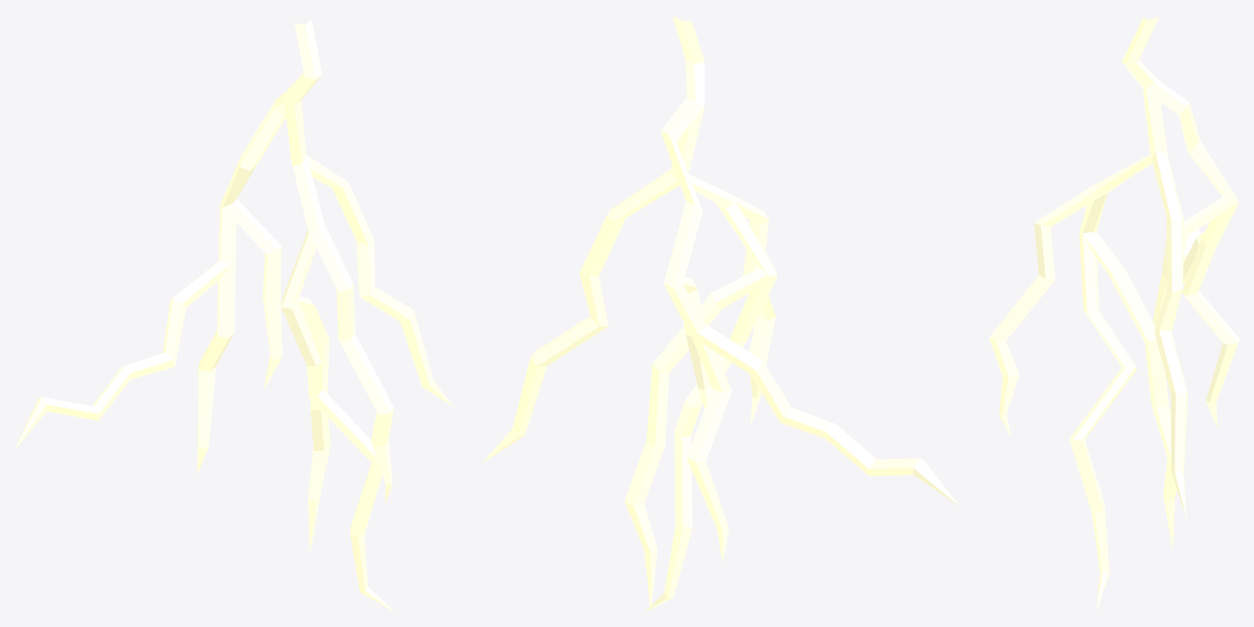
The picture shows the model from 3 angles, left to right: view 1: azimuth 30°, elevation 25°; view 2: azimuth 150°, elevation 25°; view 3: azimuth 270°, elevation 25°; orthographic projection. The views are drawn at different scales.
Parts seen in each view (by area): view 1: lightning_bolt.002, lightning_bolt.006, lightning_bolt.003, lightning_bolt.005, lightning_bolt, lightning_bolt.004, lightning_bolt.007; view 2: lightning_bolt.002, lightning_bolt.006, lightning_bolt.004, lightning_bolt, lightning_bolt.005, lightning_bolt.003, lightning_bolt.007; view 3: lightning_bolt.002, lightning_bolt.006, lightning_bolt.005, lightning_bolt.004, lightning_bolt.003, lightning_bolt.007, lightning_bolt.
Boxes of the visible parts, left/top/right/bottom form: lightning_bolt.002: left=284, top=20, right=451, bottom=405; lightning_bolt.006: left=197, top=93, right=285, bottom=473; lightning_bolt.003: left=292, top=155, right=393, bottom=503; lightning_bolt.005: left=281, top=301, right=395, bottom=612; lightning_bolt: left=14, top=260, right=230, bottom=449; lightning_bolt.004: left=281, top=230, right=330, bottom=552; lightning_bolt.007: left=222, top=199, right=282, bottom=388; lightning_bolt.002: left=481, top=17, right=704, bottom=463; lightning_bolt.006: left=660, top=98, right=731, bottom=562; lightning_bolt.004: left=625, top=203, right=777, bottom=611; lightning_bolt: left=691, top=324, right=960, bottom=506; lightning_bolt.005: left=644, top=275, right=777, bottom=612; lightning_bolt.003: left=678, top=174, right=775, bottom=424; lightning_bolt.007: left=683, top=277, right=710, bottom=408; lightning_bolt.002: left=1122, top=15, right=1187, bottom=519; lightning_bolt.006: left=1146, top=79, right=1239, bottom=427; lightning_bolt.005: left=1069, top=233, right=1136, bottom=611; lightning_bolt.004: left=1079, top=193, right=1176, bottom=550; lightning_bolt.003: left=989, top=152, right=1155, bottom=437; lightning_bolt.007: left=1152, top=197, right=1238, bottom=326; lightning_bolt: left=1183, top=229, right=1204, bottom=283.
Size of the model in its own units: 1.87 by 2.39 by 0.9559.
